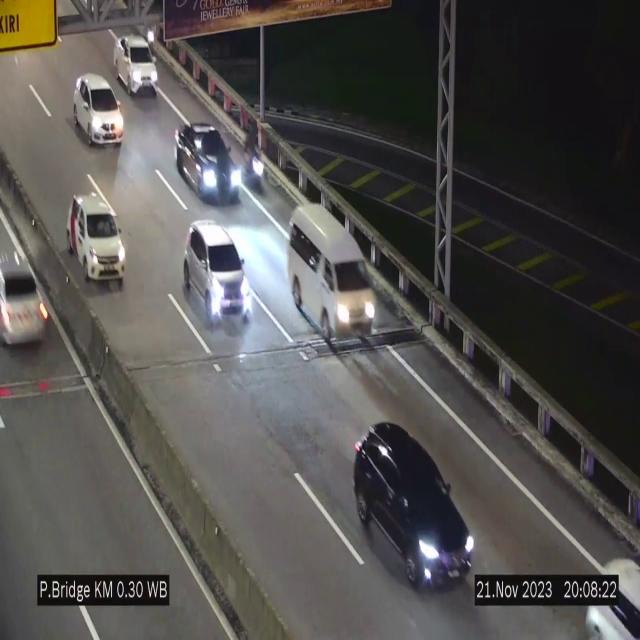Car: (354, 421, 474, 586), (288, 204, 378, 351), (183, 221, 249, 359), (0, 246, 57, 371), (68, 193, 126, 284), (175, 123, 233, 201), (583, 562, 640, 640), (74, 75, 124, 145), (114, 35, 158, 97)
Motorcycle: (239, 119, 268, 196)
